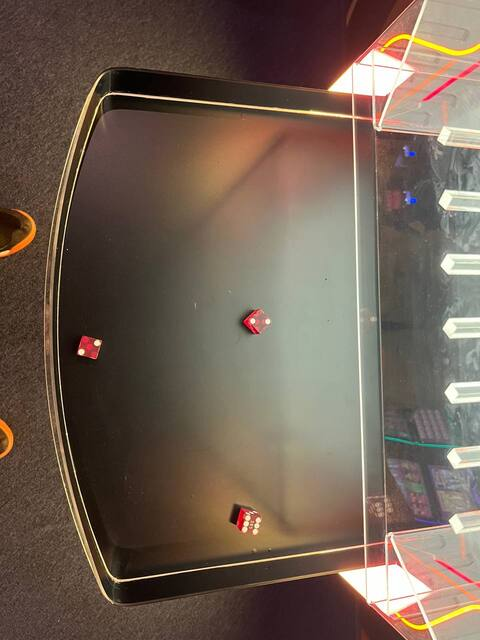six: (237, 510, 264, 541)
two: (242, 307, 274, 336), (72, 333, 106, 360)
